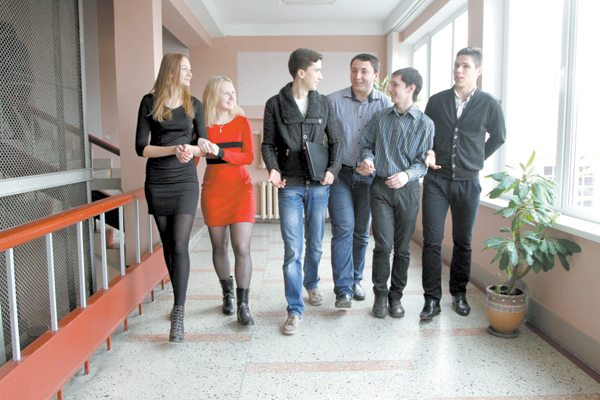students: (261, 47, 346, 335), (418, 48, 507, 319), (134, 52, 207, 344), (361, 65, 434, 319), (324, 53, 390, 311), (195, 74, 255, 327)
